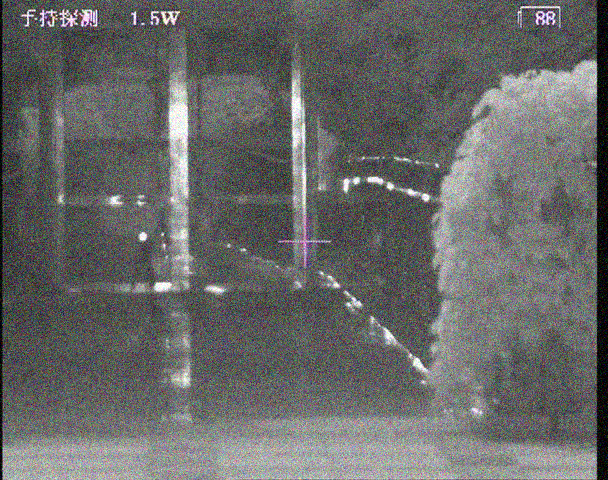my: (138, 231, 148, 242)
